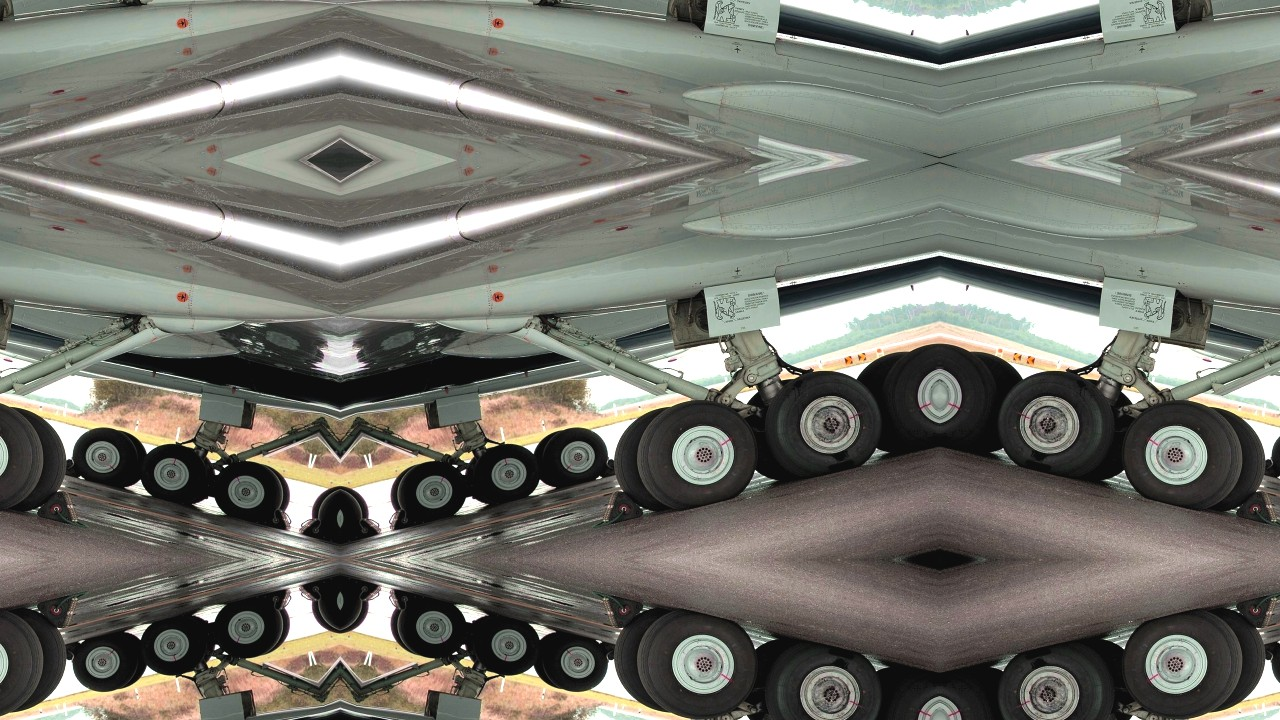chock: (33, 484, 88, 529), (592, 484, 647, 529), (33, 591, 88, 636), (592, 591, 647, 636), (1233, 484, 1280, 529), (1233, 591, 1280, 636), (296, 513, 331, 542), (349, 513, 384, 542), (296, 578, 331, 607), (349, 578, 384, 607), (261, 505, 296, 533), (384, 505, 419, 533), (261, 587, 296, 615), (384, 587, 419, 615), (60, 456, 83, 480), (597, 456, 620, 480), (60, 640, 83, 664), (597, 640, 620, 664), (1260, 456, 1280, 480), (1260, 640, 1280, 664)
wheel: (622, 386, 770, 521), (1110, 386, 1258, 521), (753, 358, 894, 489), (986, 358, 1127, 489), (622, 599, 770, 720), (1110, 599, 1258, 720), (753, 631, 894, 720), (986, 631, 1127, 720), (876, 331, 940, 458), (940, 331, 1004, 458), (0, 386, 58, 521), (0, 599, 58, 720), (206, 455, 288, 529), (392, 455, 474, 529), (206, 591, 288, 665), (392, 591, 474, 665), (135, 439, 215, 511), (465, 439, 545, 511), (135, 609, 215, 681), (465, 609, 545, 681), (67, 419, 145, 492), (535, 419, 613, 492), (67, 628, 145, 701), (535, 628, 613, 701), (876, 662, 940, 720), (940, 662, 1004, 720), (314, 481, 340, 556), (340, 481, 366, 556), (314, 564, 340, 639), (340, 564, 366, 639), (1267, 419, 1280, 492), (1267, 628, 1280, 701)
